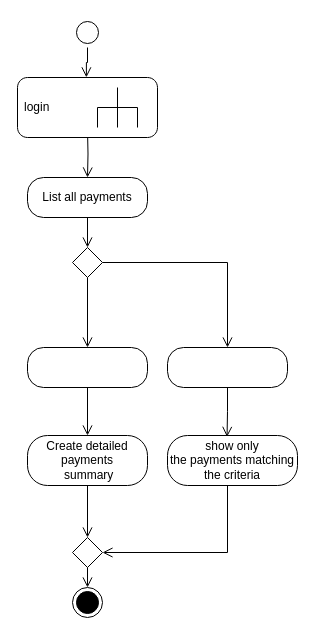
Image size: 315x635. Some labels were removed from this diagram. Each missing label, with the box of its shape:
Filter payments: (166, 346, 288, 388)
Generate payments summary: (26, 346, 148, 388)
